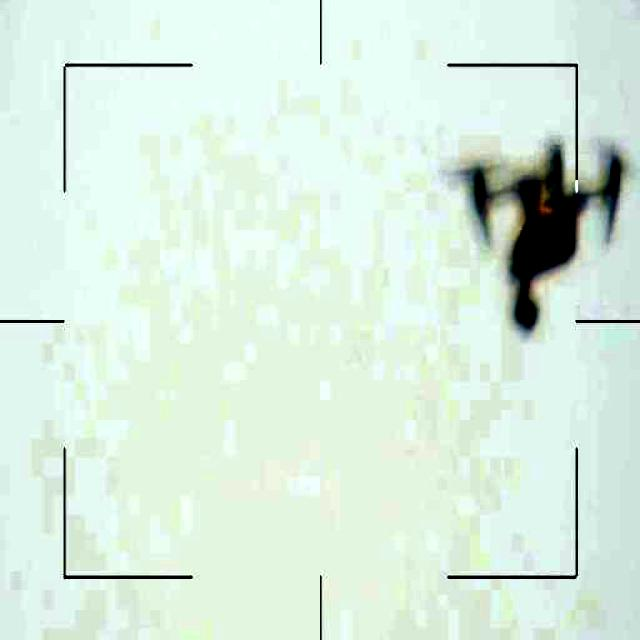bird: (456, 118, 622, 319)
